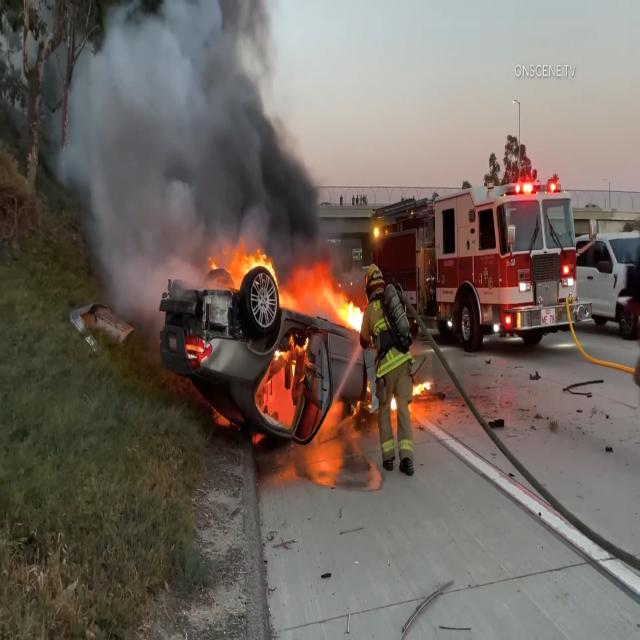fire: (217, 266, 291, 446), (330, 280, 361, 335)
smoke: (73, 18, 267, 257)
